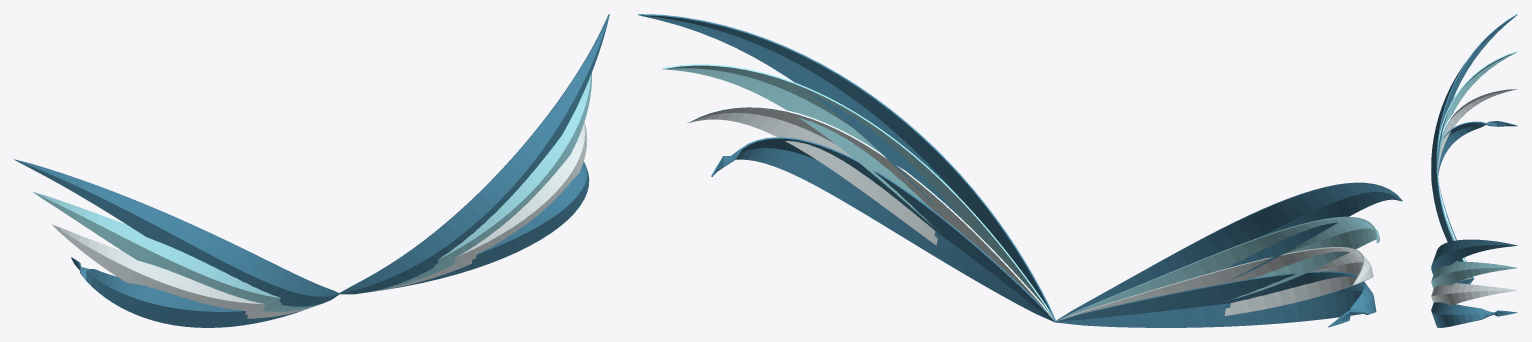
Rendered from VFX_49_TempestaAliBurrasca.fbx.
3 views of the same model, side by side, from view 1: azimuth 30°, elevation 25°; view 2: azimuth 150°, elevation 25°; view 3: azimuth 270°, elevation 25° (orthographic). The views are drawn at different scales.
Parts seen in each view (by area): view 1: VFX_49_TempestaAliBurrasca; view 2: VFX_49_TempestaAliBurrasca; view 3: VFX_49_TempestaAliBurrasca.
Part boxes in pixels (<box>): VFX_49_TempestaAliBurrasca: <box>14,14,609,327</box>; VFX_49_TempestaAliBurrasca: <box>638,14,1402,327</box>; VFX_49_TempestaAliBurrasca: <box>1431,14,1517,327</box>.
Size of the model in its own units: 501 by 151 by 79.22.
1 material, 1 textured.
